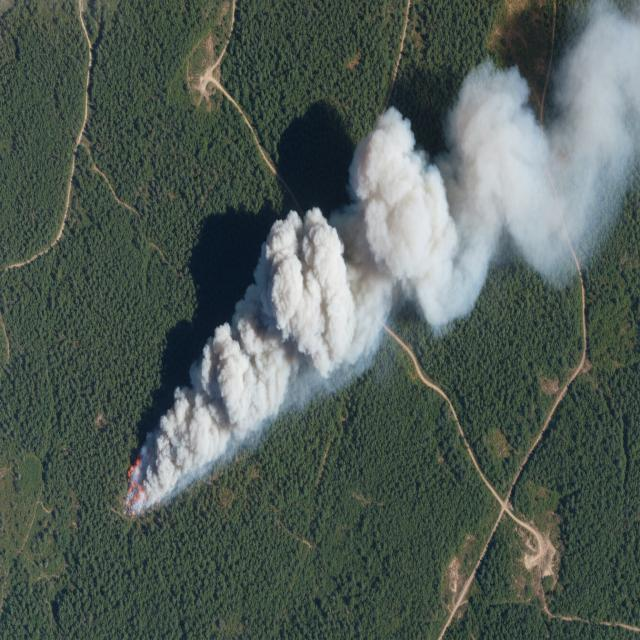wildfire: (123, 321, 297, 525)
